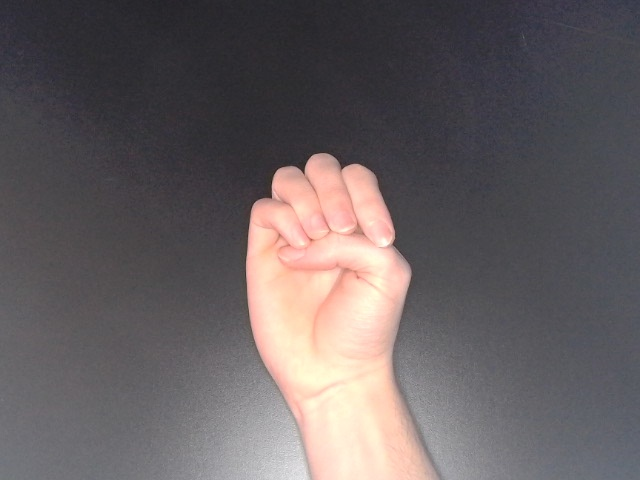e: (238, 148, 419, 419)
